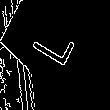L_NW: (23, 19, 77, 71)
